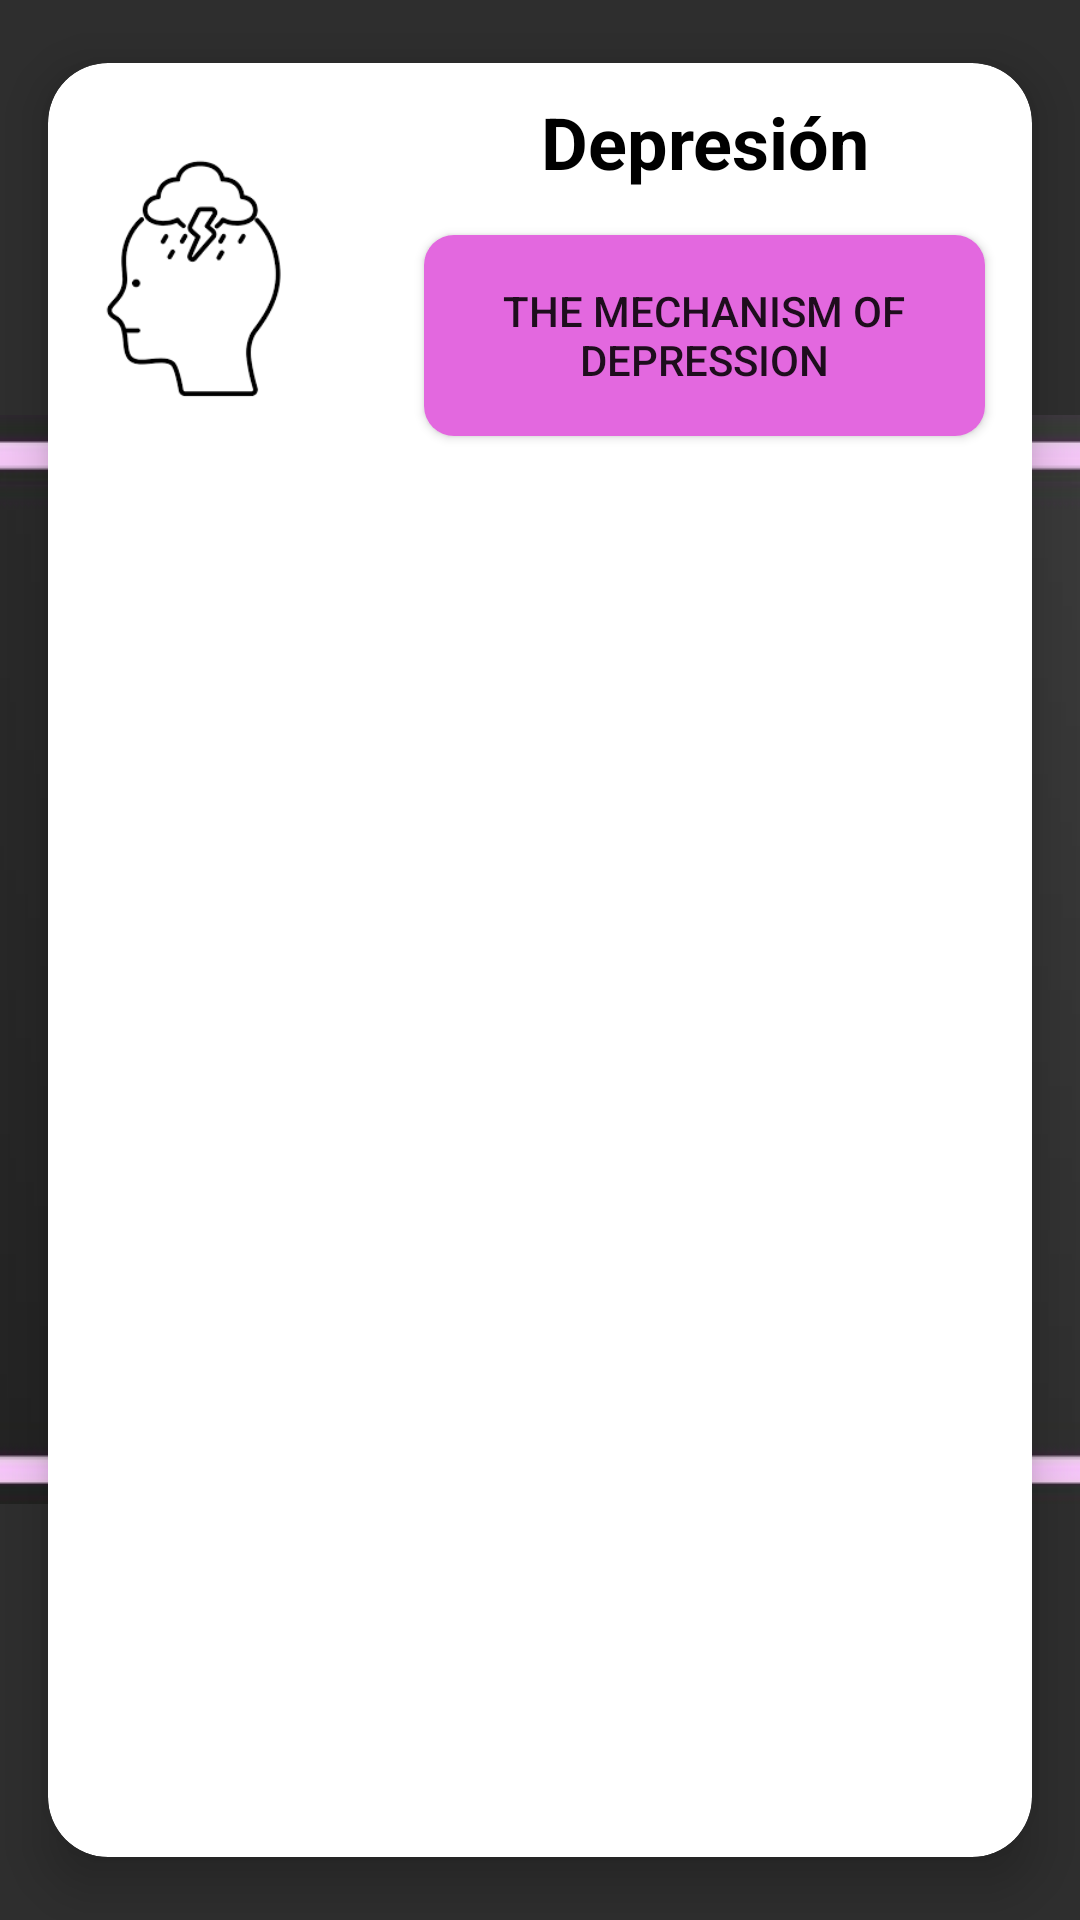

Named icons in this screenshot (1080px x 1920px) and their bounding boxes, (x1, y1, x2, y2):
home depression: (106, 161, 281, 397)
